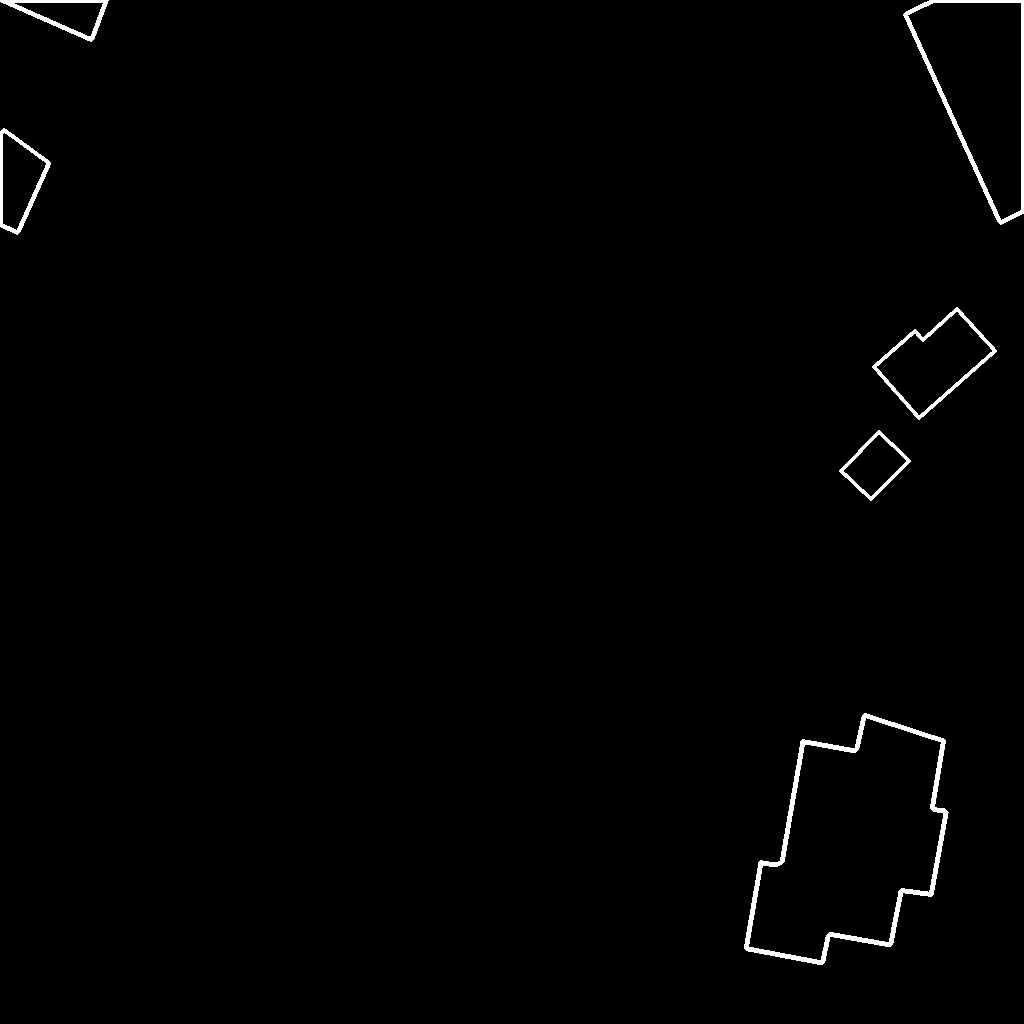building: (746, 715, 947, 964), (905, 0, 1024, 224), (874, 309, 996, 419), (0, 130, 50, 234), (841, 432, 910, 500), (0, 0, 108, 41)
